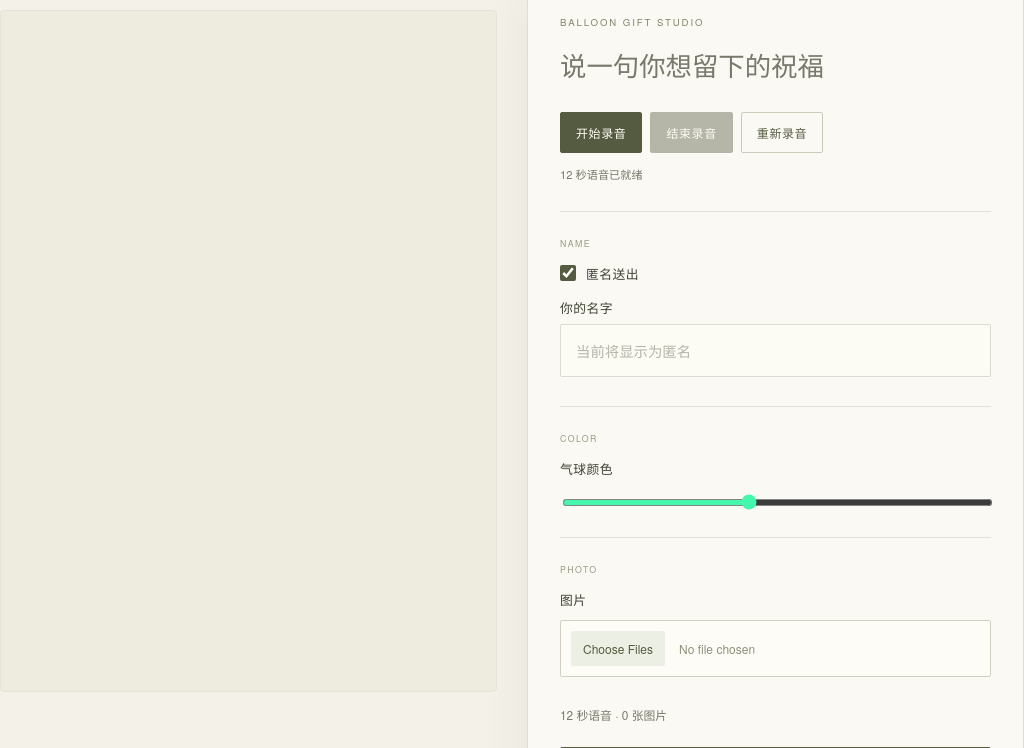
Test: GiverComposer › submits an anonymous audio gift with the selected hue and extracted audio features
Set the slider labelled "气球颜色" to "210": (813,502) [562,499,993,506]
(page scrolled)
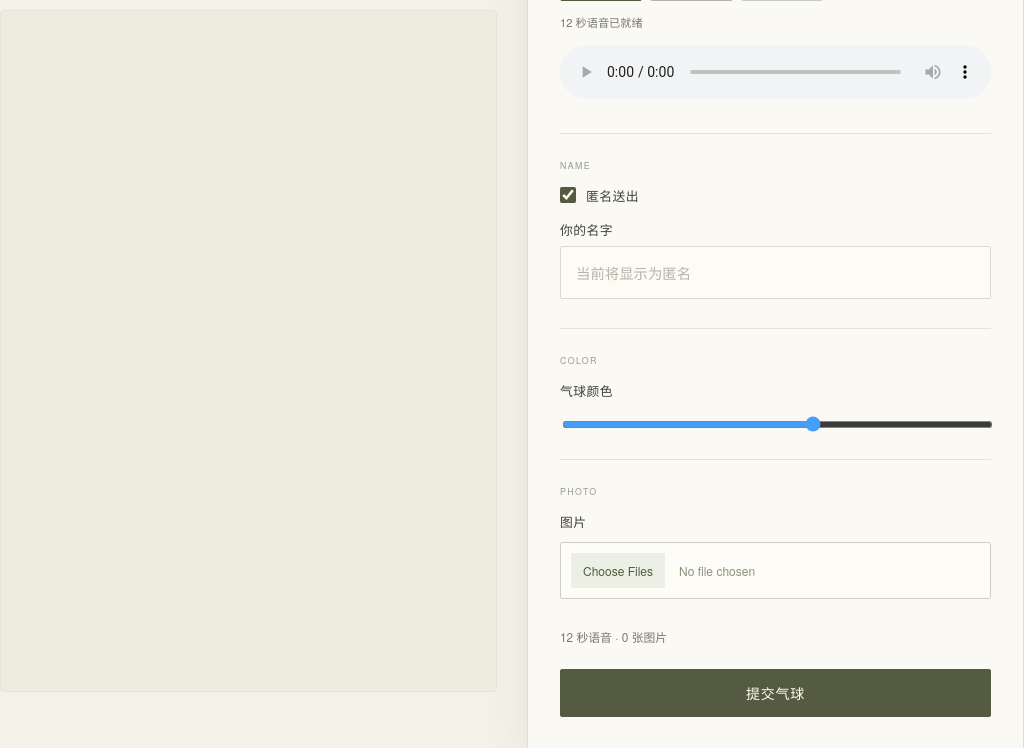
Click the button "提交气球": (776,693) [560,669,991,717]
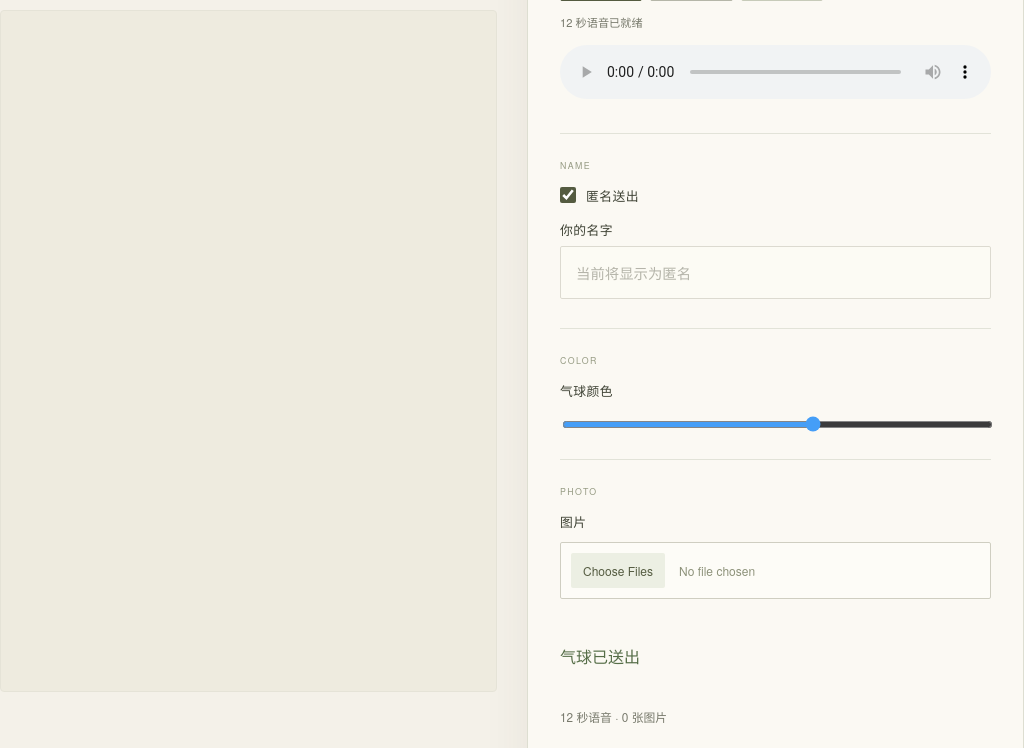
Expected: the text "气球已送出" is shown, [560,645,640,668]
